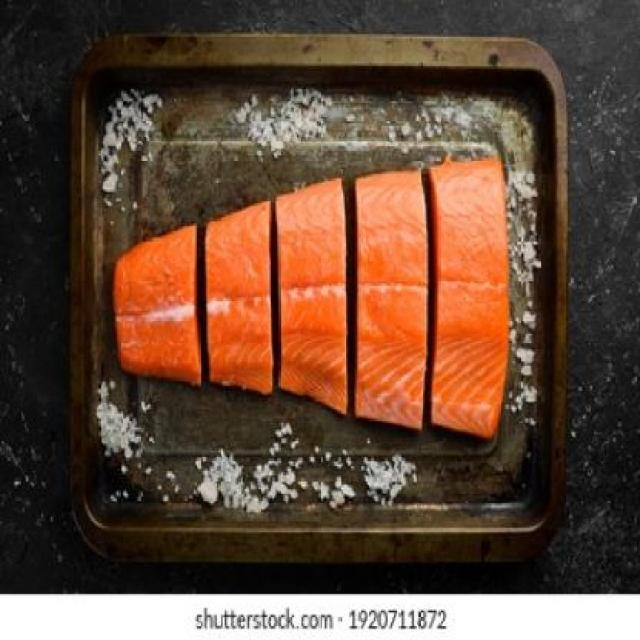salmon: (105, 151, 513, 450)
